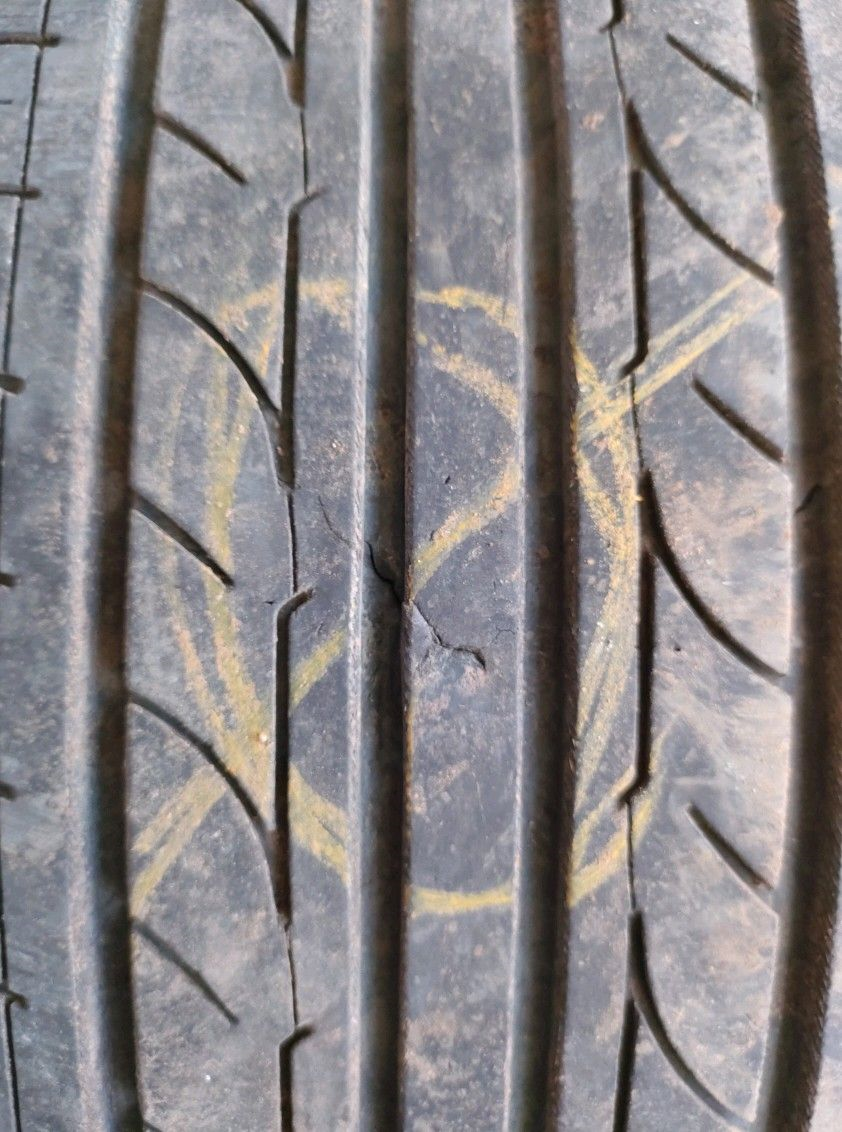tr: (308, 483, 492, 683)
